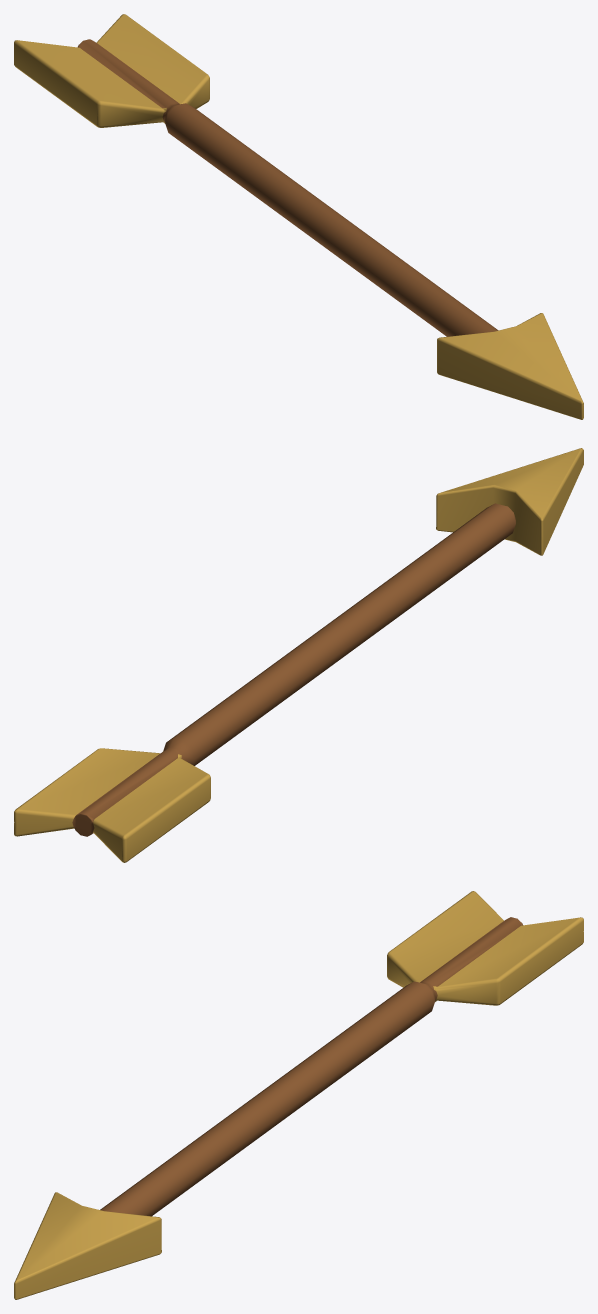
File: arrow 1.fbx
3 views of the same model, one above another, from view 1: azimuth 30°, elevation 25°; view 2: azimuth 150°, elevation 25°; view 3: azimuth 330°, elevation 25° (orthographic).
Visible parts, largest first — view 1: polySurface1, polySurface2; view 2: polySurface1, polySurface2; view 3: polySurface1, polySurface2.
Part boxes in pixels (x1,y1,x2,y2): polySurface1: (14, 14, 498, 336); polySurface2: (437, 313, 583, 419); polySurface1: (14, 503, 515, 862); polySurface2: (436, 448, 583, 555); polySurface1: (100, 891, 583, 1216); polySurface2: (14, 1192, 161, 1299).
Bounding box in the file's own units: 2.83 × 1.25 × 22.36.
